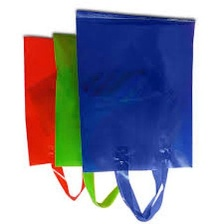plastic_bag: (70, 8, 197, 224), (18, 31, 103, 203), (51, 28, 130, 212)
